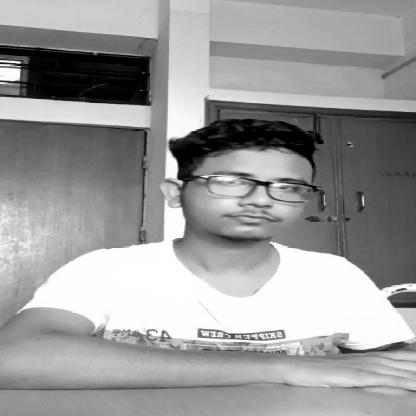Normal: (174, 136, 322, 246)
